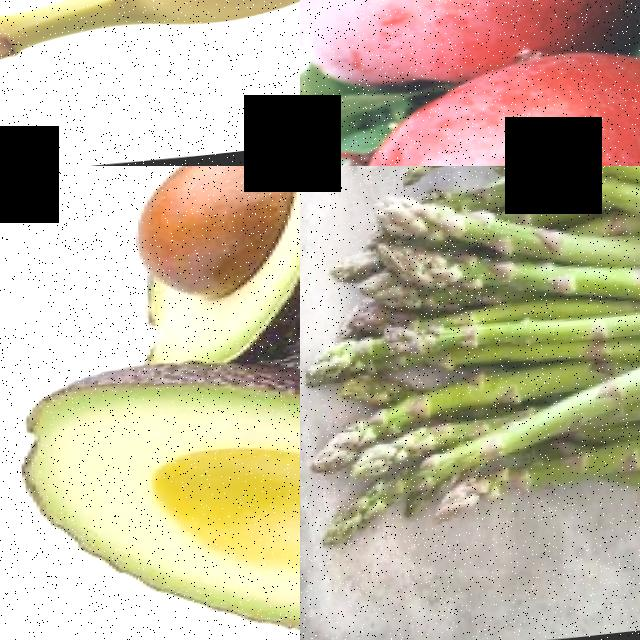apple: (348, 45, 640, 166), (300, 0, 626, 91)
asparagus: (300, 381, 640, 510), (346, 210, 640, 351), (386, 166, 640, 243)
avocado: (0, 318, 300, 640), (107, 166, 300, 401)
banana: (0, 0, 300, 110)
